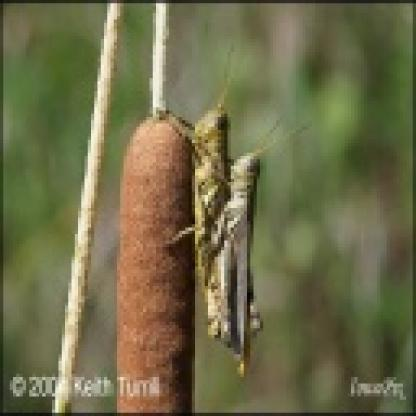grasshopper: (156, 67, 235, 344), (213, 130, 262, 380)
